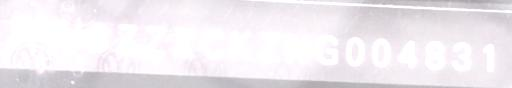letter: (44, 17, 84, 52), (170, 24, 196, 60), (284, 28, 310, 64), (314, 33, 342, 66), (200, 26, 226, 60), (12, 17, 38, 50), (114, 21, 140, 53), (257, 29, 281, 63), (422, 37, 446, 70), (450, 38, 472, 73), (143, 24, 167, 56), (344, 34, 366, 67), (86, 22, 110, 52), (230, 29, 252, 61), (396, 37, 418, 69), (370, 36, 390, 70), (480, 41, 496, 75)
